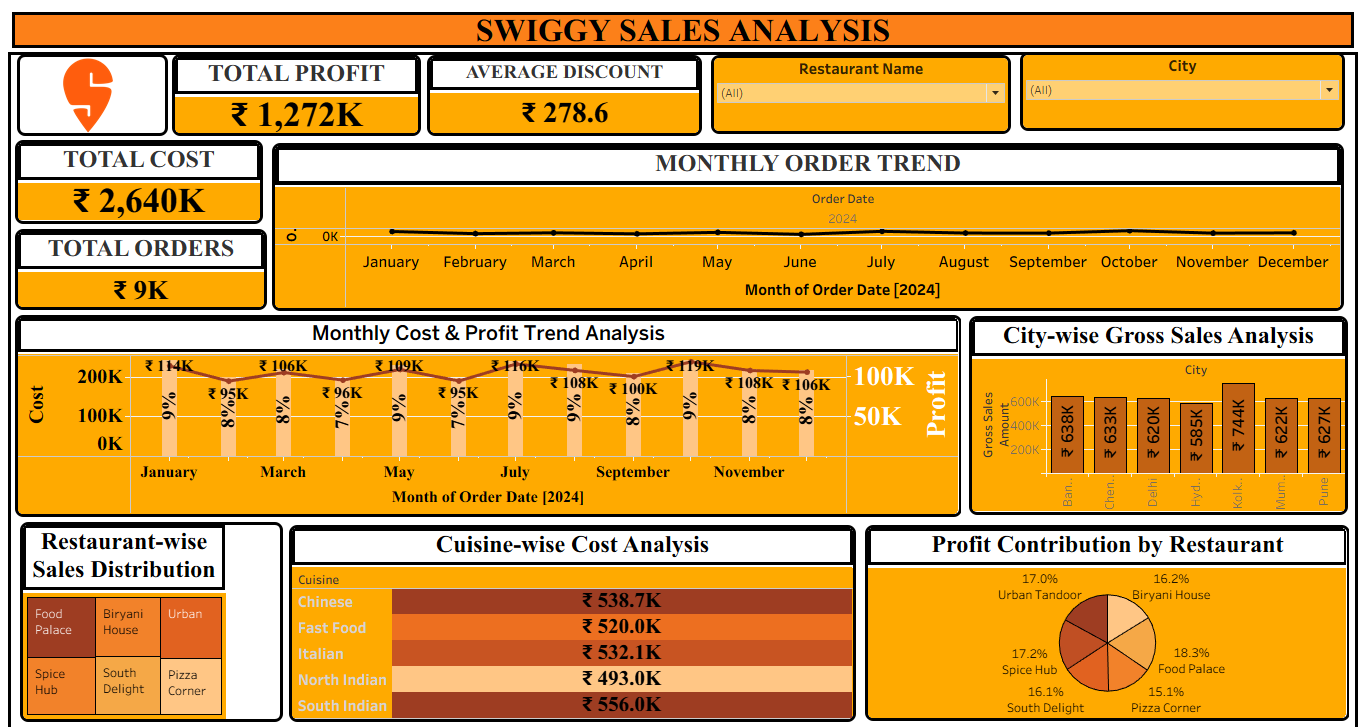

What the dashboard file says about the page in this screenshot:
{"tool":"tableau","page":{"name":"Dashboard 1","canvas":[1000,1000],"units":"permille","ordinal":0},"visuals":[{"type":"title","box":[6,9.3,987.9,51.2]},{"type":"filter","title":"Sheet 9","param":"[federated.0jwlzo70hv5hyh14prdg2005tiae].[none:City:nk]","box":[746.9,70.9,237.7,107]},{"type":"image","param":"Image/Swiggy-emblem.png","box":[12.3,73.7,110.6,110.5]},{"type":"worksheet","title":"Sheet 4","mark":"Automatic","box":[125.5,73.7,182.6,110.5]},{"type":"worksheet","title":"Sheet 7","mark":"Automatic","box":[312.6,75,201.1,109.2]},{"type":"filter","title":"Sheet 3","param":"[federated.0jwlzo70hv5hyh14prdg2005tiae].[none:RestaurantName:nk]","box":[520.6,75,219.5,106.6]},{"type":"worksheet","title":"Sheet 5","mark":"Automatic","box":[10.8,189.5,181.5,114]},{"type":"worksheet","title":"Sheet 1","mark":"Line","rows":["OrdersCount"],"cols":["OrderDate","OrderDate"],"box":[199.3,193.4,784.9,227.6]},{"type":"worksheet","title":"Sheet 6","mark":"Automatic","box":[10.8,310.5,184.6,109.3]},{"type":"worksheet","title":"Sheet 2","mark":"Automatic","rows":["Cost","Profit"],"cols":["OrderDate"],"box":[10.8,426.7,693.1,273.3]},{"type":"worksheet","title":"Sheet 9","mark":"Bar","rows":["GrossSalesAmount"],"cols":["City"],"box":[709.2,427.9,277.7,269.8]},{"type":"worksheet","title":"Sheet 3","mark":"Automatic","box":[14.9,707.9,192.3,271.1]},{"type":"worksheet","title":"Sheet 10","mark":"Square","rows":["Cuisine"],"box":[211.6,711.8,415.3,267.1]},{"type":"worksheet","title":"Sheet 11","mark":"Pie","box":[633,711.8,354.7,265.8]}]}

Visuals, with their boxes on the dashboard's canvas, which has no fixed pixel size, in thousandths of its width and height (x1, y1, x2, y2). These are canvas units, not pixel positions in the 1366x727 screenshot, which may show the page scaled, cropped or inside an application window:
title: (6,9,994,60)
"Sheet 9" filter: (747,71,985,178)
image: (12,74,123,184)
"Sheet 4" worksheet: (126,74,308,184)
"Sheet 7" worksheet: (313,75,514,184)
"Sheet 3" filter: (521,75,740,182)
"Sheet 5" worksheet: (11,190,192,304)
"Sheet 1" worksheet (Line marks): (199,193,984,421)
"Sheet 6" worksheet: (11,310,195,420)
"Sheet 2" worksheet: (11,427,704,700)
"Sheet 9" worksheet (Bar marks): (709,428,987,698)
"Sheet 3" worksheet: (15,708,207,979)
"Sheet 10" worksheet (Square marks): (212,712,627,979)
"Sheet 11" worksheet (Pie marks): (633,712,988,978)
